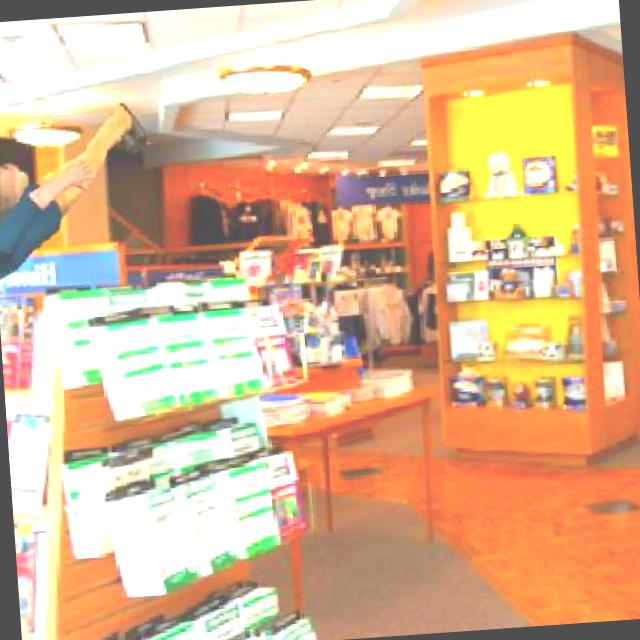Person: (0, 93, 161, 280)
